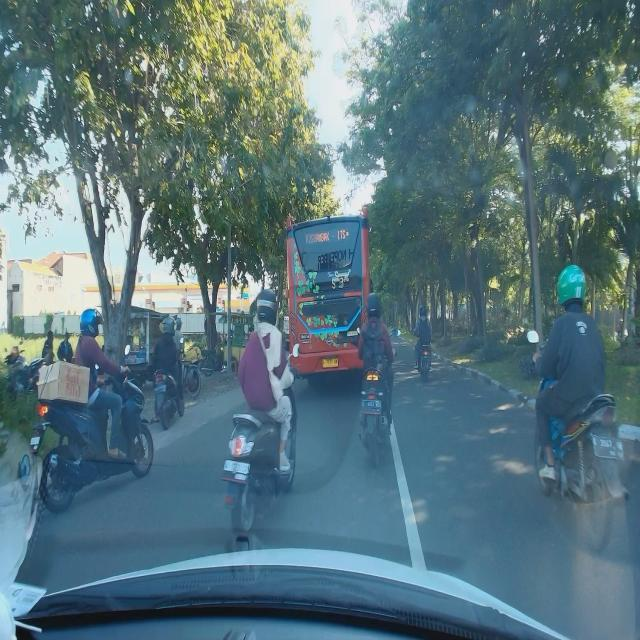bus: (285, 206, 374, 384)
license-plate: (322, 358, 338, 367)
